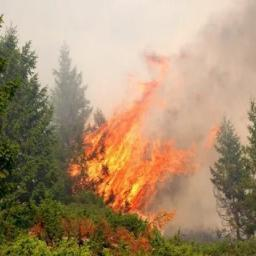Low smoke: (78, 0, 255, 244)
Medium fire: (35, 50, 220, 251)
